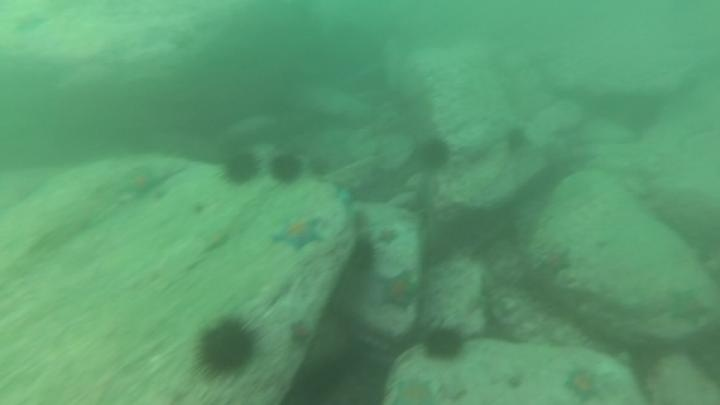echinus: (192, 313, 262, 380), (617, 94, 665, 136), (420, 323, 467, 365), (219, 149, 262, 188), (415, 135, 453, 173), (347, 234, 380, 277), (267, 151, 305, 187), (501, 124, 531, 156), (306, 153, 334, 181)
starfish: (269, 213, 327, 255), (662, 285, 713, 329), (375, 269, 423, 313), (115, 165, 168, 204), (561, 364, 605, 404), (534, 243, 575, 281), (389, 374, 438, 405), (8, 9, 53, 39), (286, 316, 319, 350), (375, 225, 401, 248)
